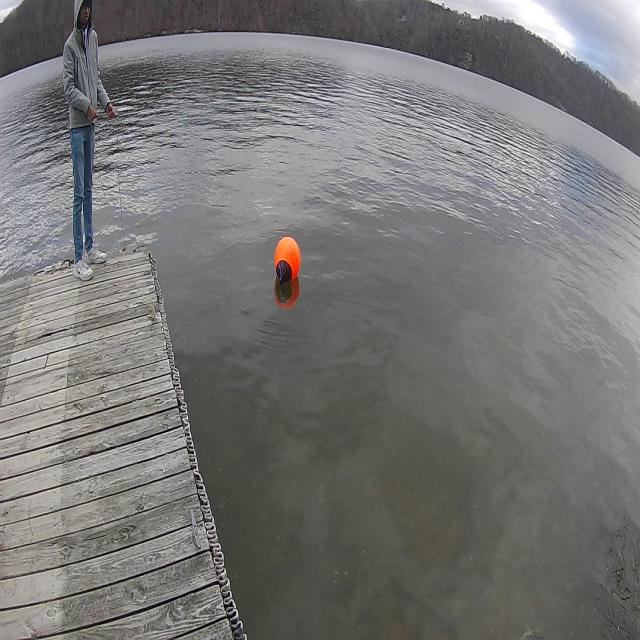Buoy: (270, 227, 304, 292)
